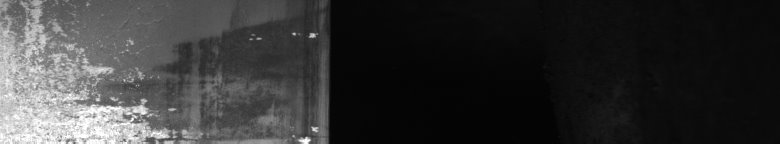kb: (44, 26, 318, 136)
